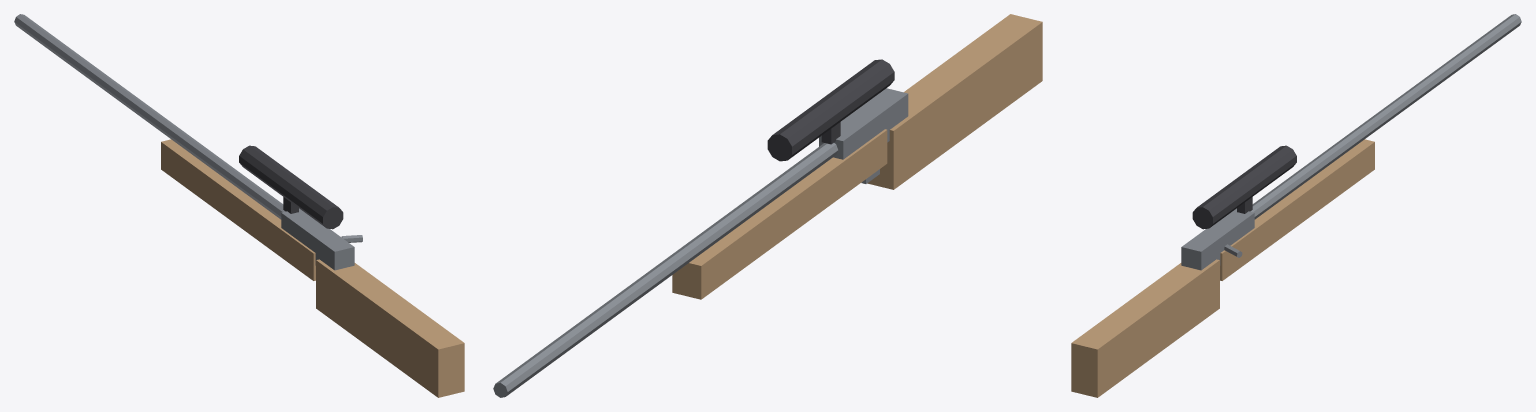
The model's file is hunting_rifle.glb.
The picture shows the model from 3 angles, left to right: view 1: azimuth 30°, elevation 25°; view 2: azimuth 150°, elevation 25°; view 3: azimuth 330°, elevation 25°; orthographic projection. The views are drawn at different scales.
Parts seen in each view (by area): view 1: hunting_rifle; view 2: hunting_rifle; view 3: hunting_rifle.
Part boxes in pixels (<box>): hunting_rifle: <box>14,14,464,397</box>; hunting_rifle: <box>493,14,1042,397</box>; hunting_rifle: <box>1071,14,1521,397</box>.
Size of the model in its own units: 0.0717 by 0.146 by 1.13.
